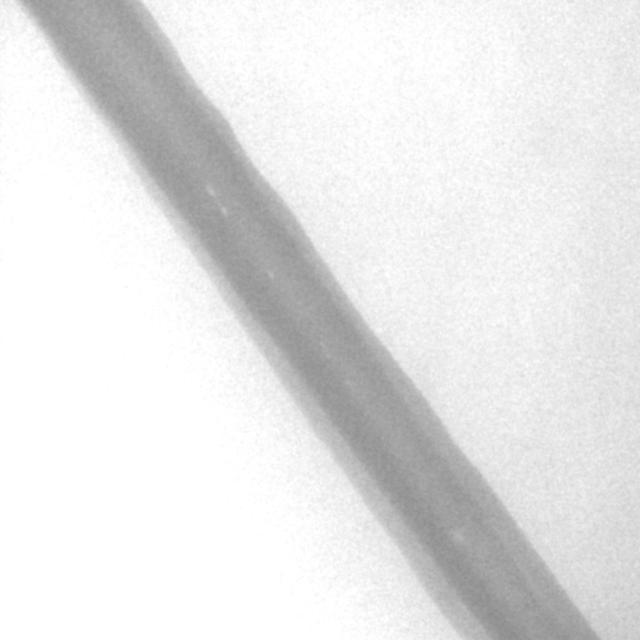air hole: (204, 184, 216, 200), (217, 204, 229, 218), (265, 267, 276, 280)
